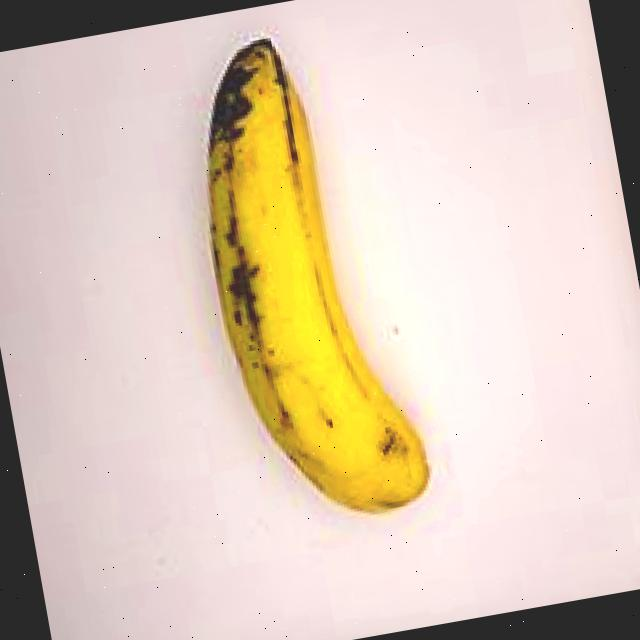Overripe: (123, 0, 482, 565)
